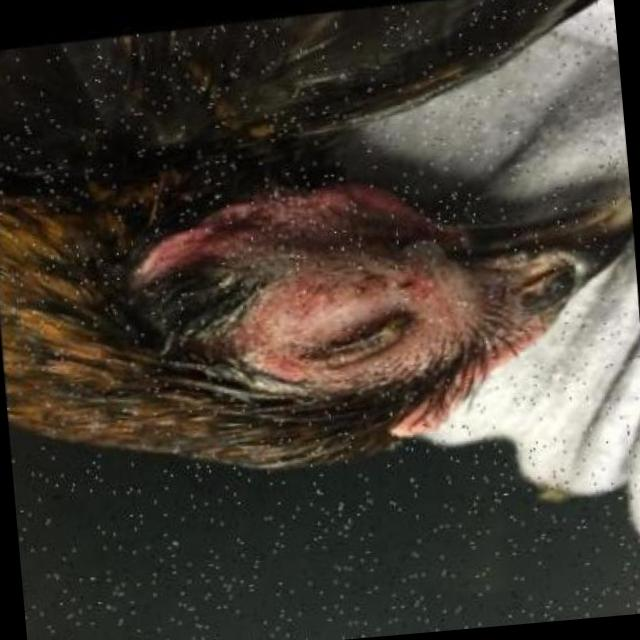Coryza: (276, 250, 482, 398)
